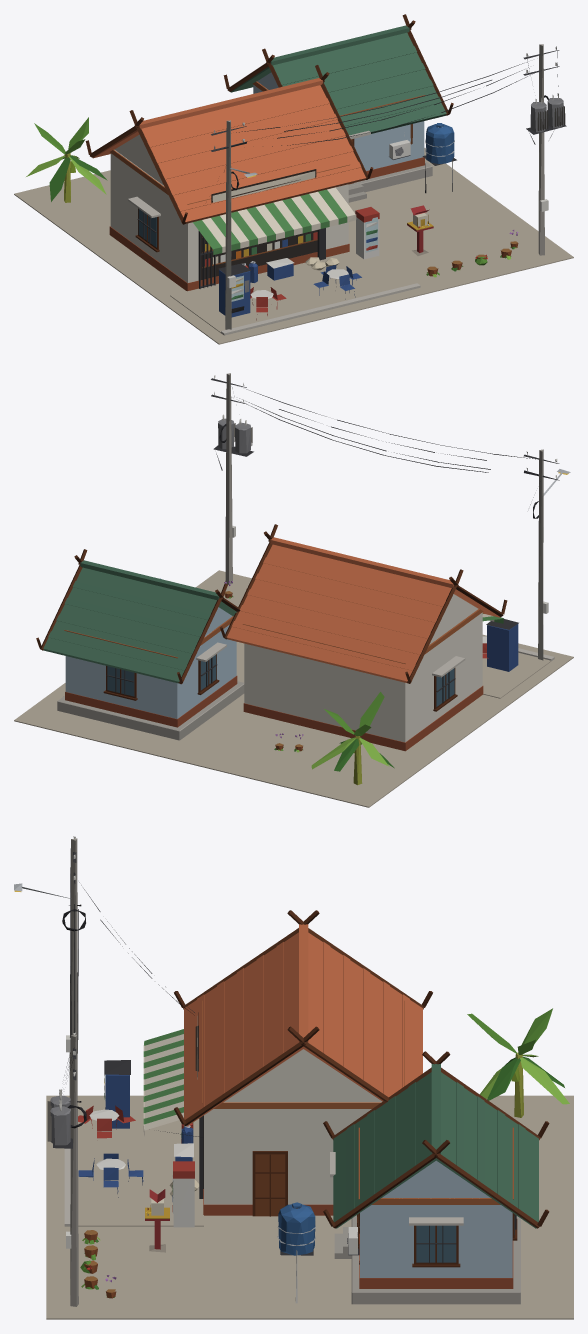
File: shop_1.glb
The picture shows the model from 3 angles, top to bottom: view 1: azimuth 30°, elevation 25°; view 2: azimuth 150°, elevation 25°; view 3: azimuth 270°, elevation 25°; orthographic projection. The views are drawn at different scales.
Parts seen in each view (by area): view 1: body, windows; view 2: body, windows; view 3: body, windows.
Part boxes in pixels (x1,y1,x2,y2): body: [14, 14, 573, 344]; windows: [138, 175, 317, 279]; body: [14, 373, 573, 807]; windows: [107, 472, 568, 706]; body: [14, 836, 573, 1319]; windows: [14, 890, 514, 1262].
Size of the model in its own units: 16.1 by 9.31 by 16.88.
